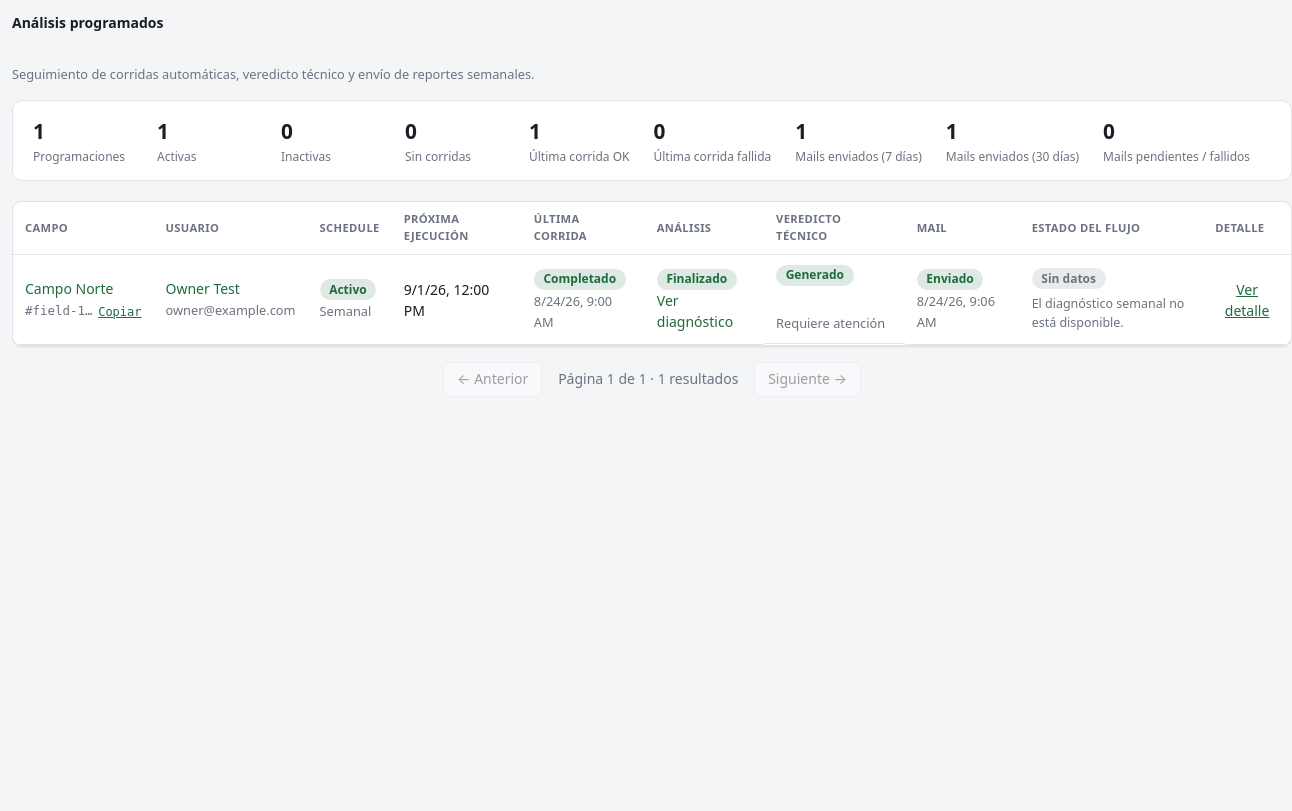
Test: ScheduledAnalysisComponent (PR 13B) › renderiza "Diagnóstico semanal no disponible" cuando weeklyTechnicalVerdict es null
The width and height of the screenshot is (1292, 811).
Click the button with class "detail-toggle" at (1247, 300), box [1215,278,1279,320]
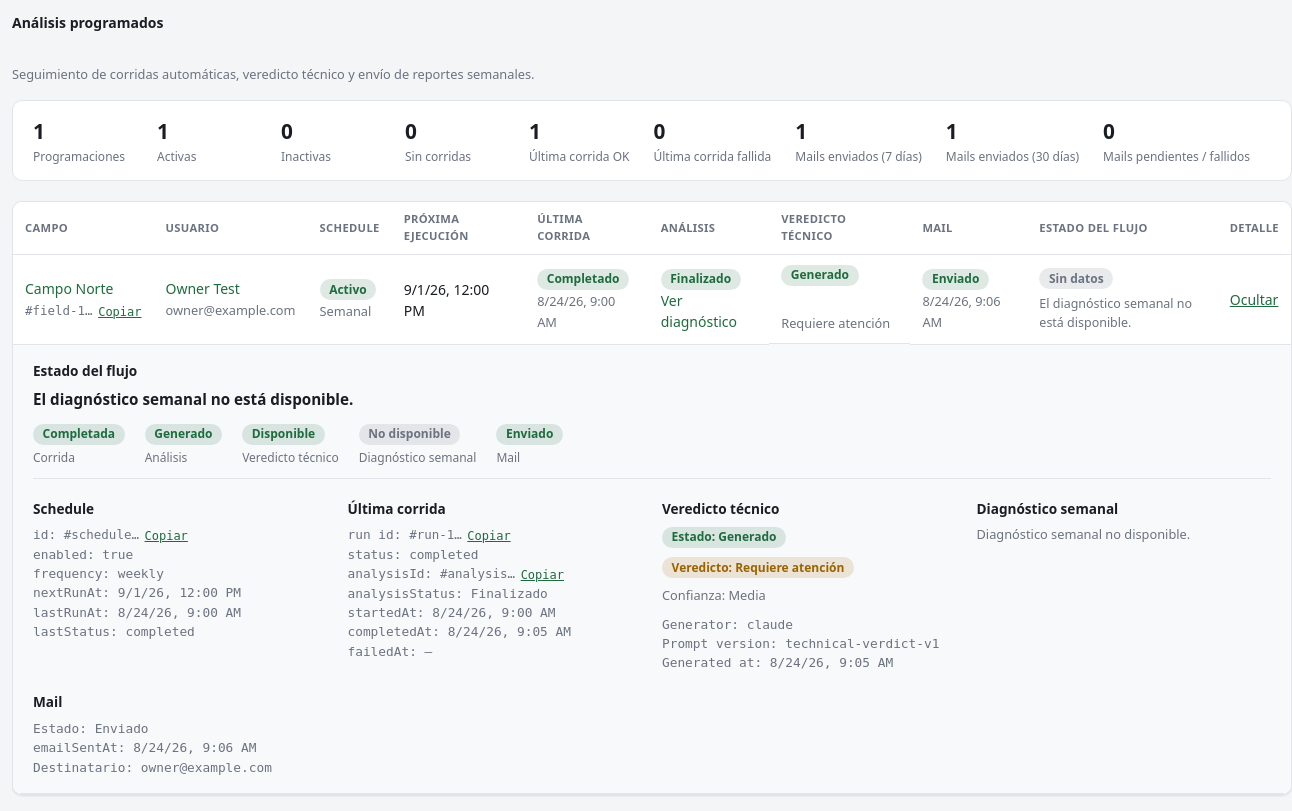
Expected: the text "Diagnóstico semanal no disponible." is shown, [976,525,1190,543]
